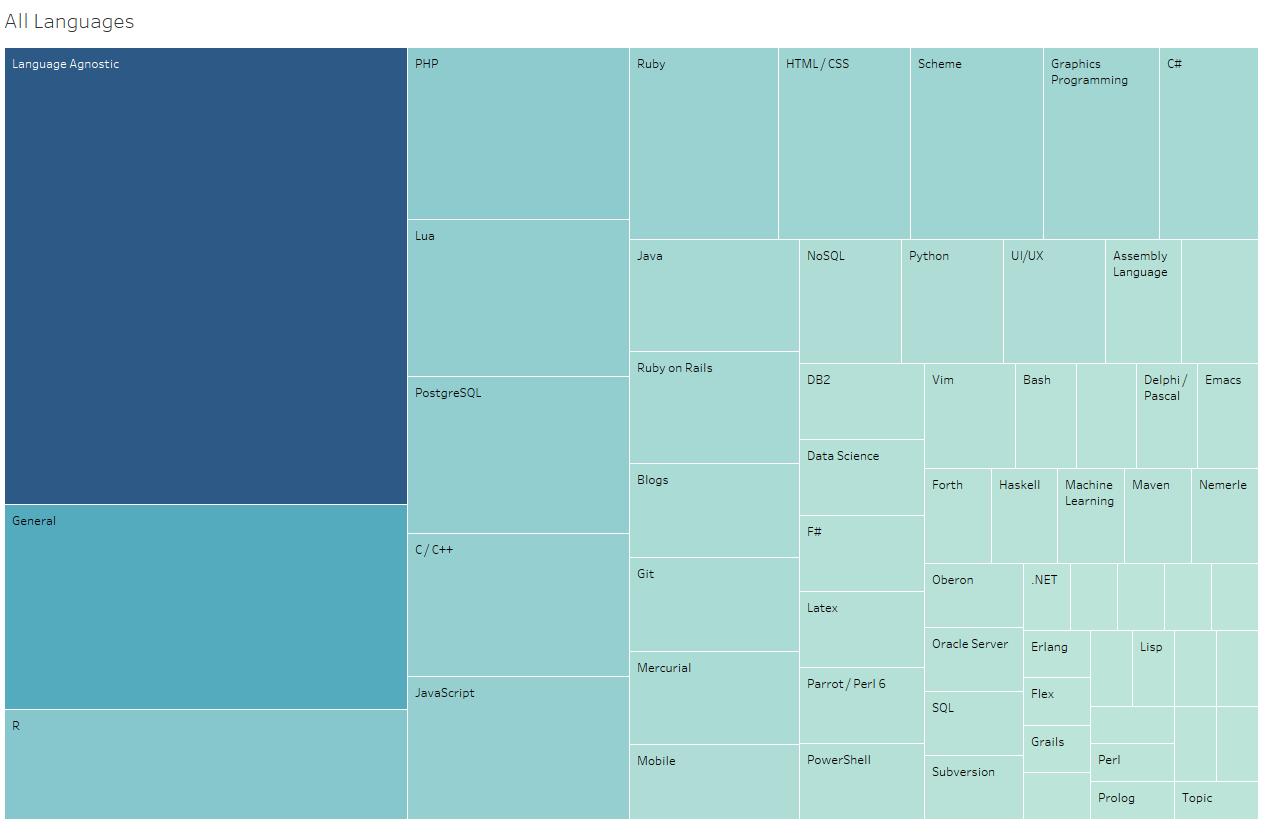

What the dashboard file says about the page in this screenshot:
{"tool":"tableau","page":{"name":"Dashboard 1","canvas":[1000,800],"ordinal":0},"visuals":[{"type":"worksheet","title":"Sheet 1","mark":"Automatic","box":[8,8,824,784]},{"type":"legend","title":"Sheet 1","param":"[federated.0lwhxmg0q4a0n612oz4dr1m57b5k].[cnt:F4:qk]","box":[832,8,160,65]},{"type":"filter","title":"Sheet 1","param":"[federated.0lwhxmg0q4a0n612oz4dr1m57b5k].[none:F4:nk]","box":[832,73,160,650]},{"type":"filter","title":"Sheet 1","param":"[federated.0lwhxmg0q4a0n612oz4dr1m57b5k].[cnt:F4:qk]","box":[832,723,160,69]}]}

Visuals, with their boxes on the page's 1000x800 design canvas (x1, y1, x2, y2). These are canvas units, not pixel positions in the 1262x823 screenshot, which may show the page scaled, cropped or inside an application window:
"Sheet 1" worksheet: <region>8, 8, 832, 792</region>
"Sheet 1" legend: <region>832, 8, 992, 73</region>
"Sheet 1" filter: <region>832, 73, 992, 723</region>
"Sheet 1" filter: <region>832, 723, 992, 792</region>
